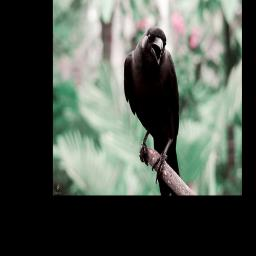Crow: (123, 26, 181, 194)
